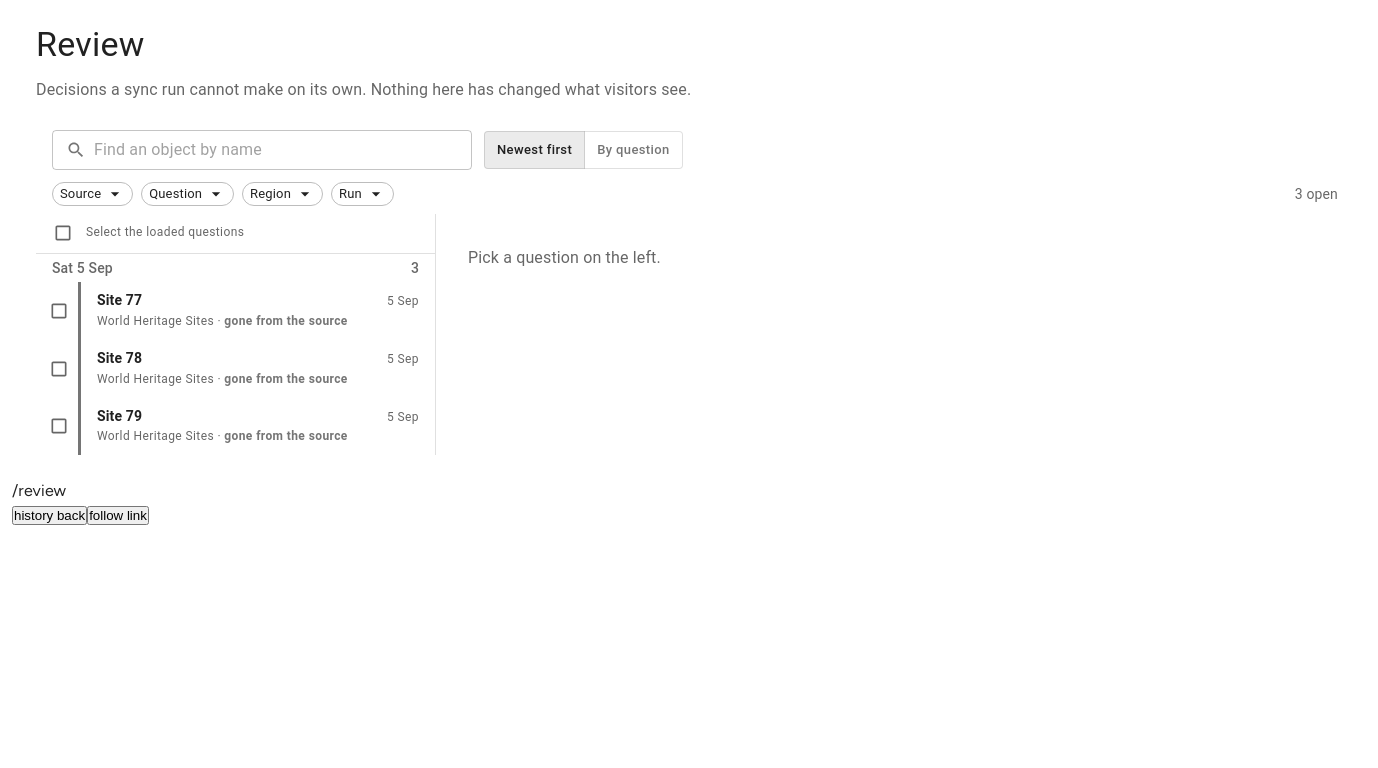
Scenario: ReviewPage › moves to the neighbour after an order change too, not back to the top
What coordinates should you click on to do the following:
click the button "Site 79 5 Sep World Heritage Sites · gone from the source"
I would click on:
 (120, 416)
Its box is [78, 398, 435, 455].
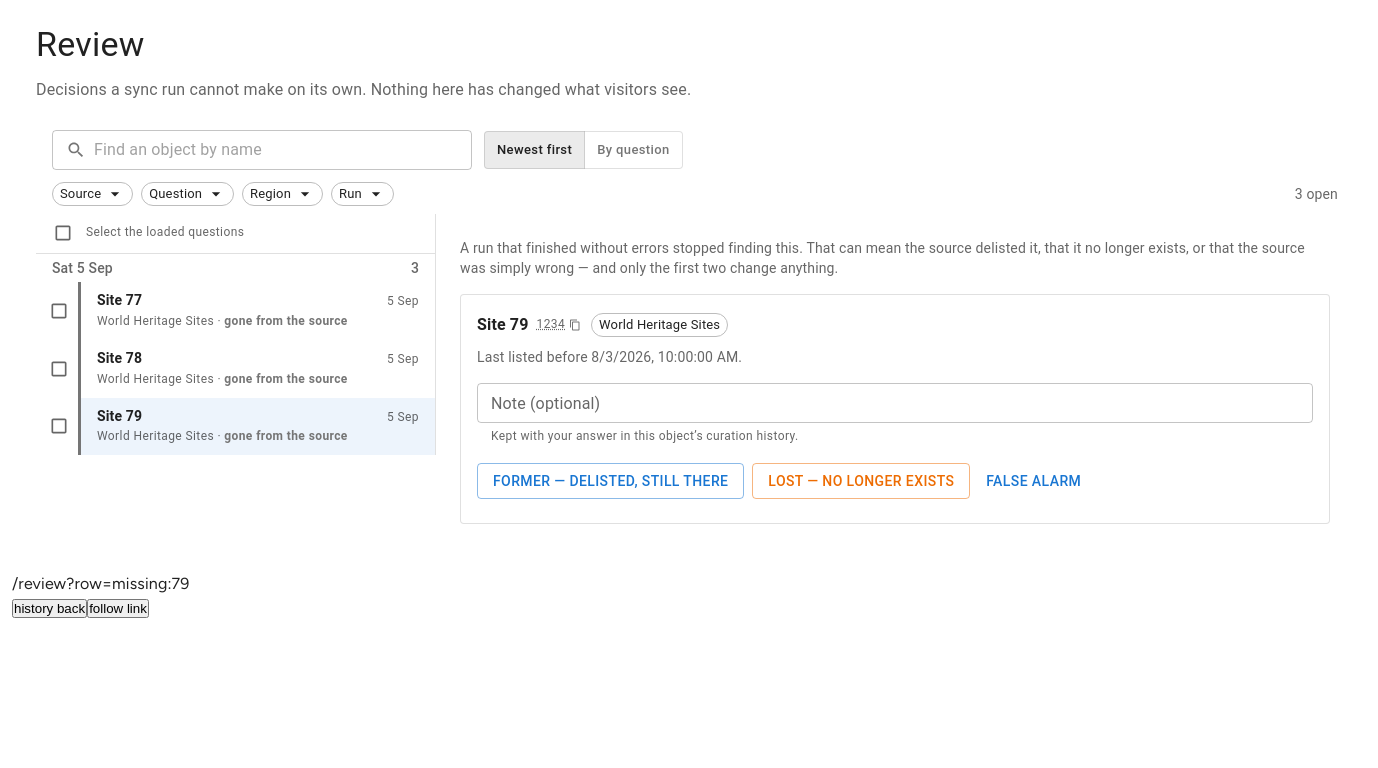
Expected: the text with test id "address" reads "/review?row=missing:79", [12, 574, 190, 593]
What coordinates should you click on to do the following:
click the button "By question"
I would click on:
 (633, 150)
Its box is [584, 130, 683, 169].
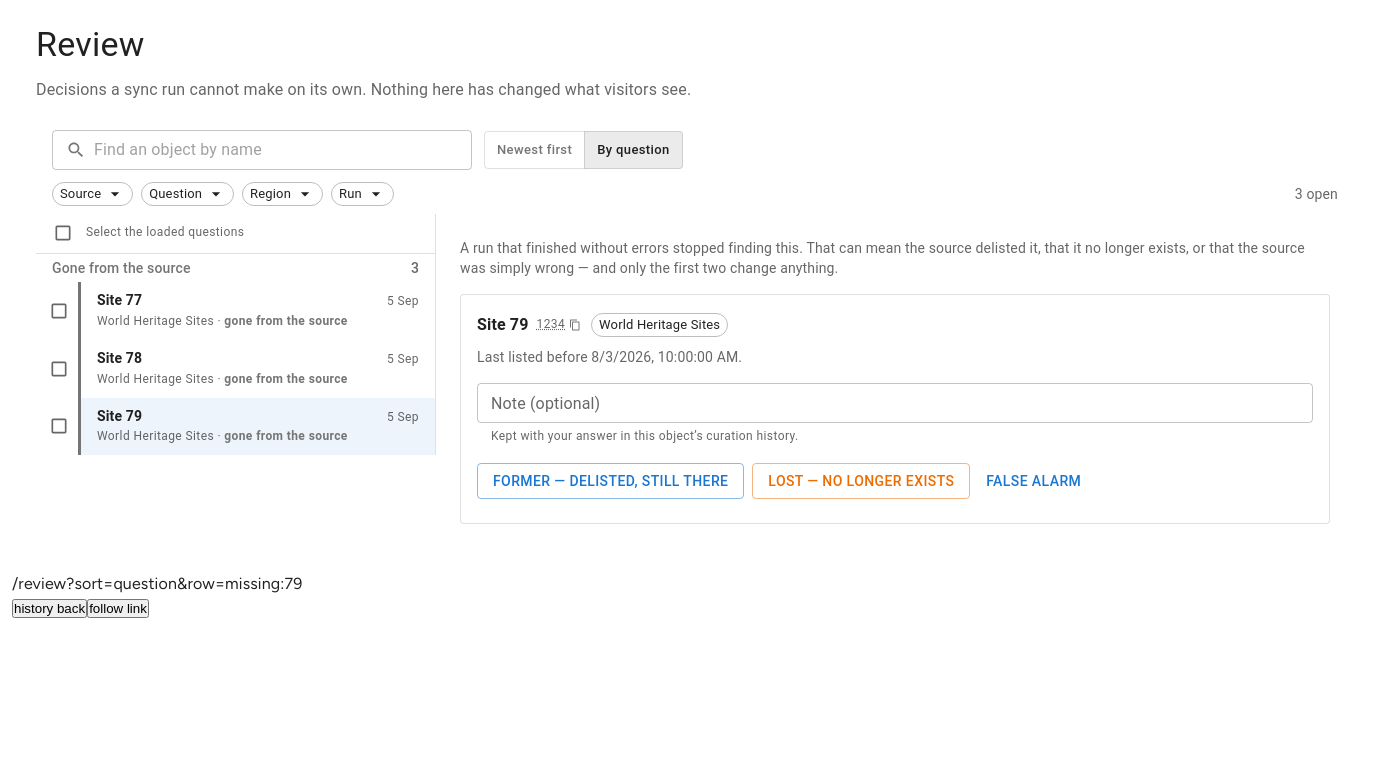
Expected: the text with test id "address" reads "/review?sort=question&row=missing:79", [12, 574, 302, 593]
What coordinates should you click on to do the following:
click the button "Former — delisted, still there"
I would click on:
 (611, 481)
Its box is [477, 463, 744, 499].
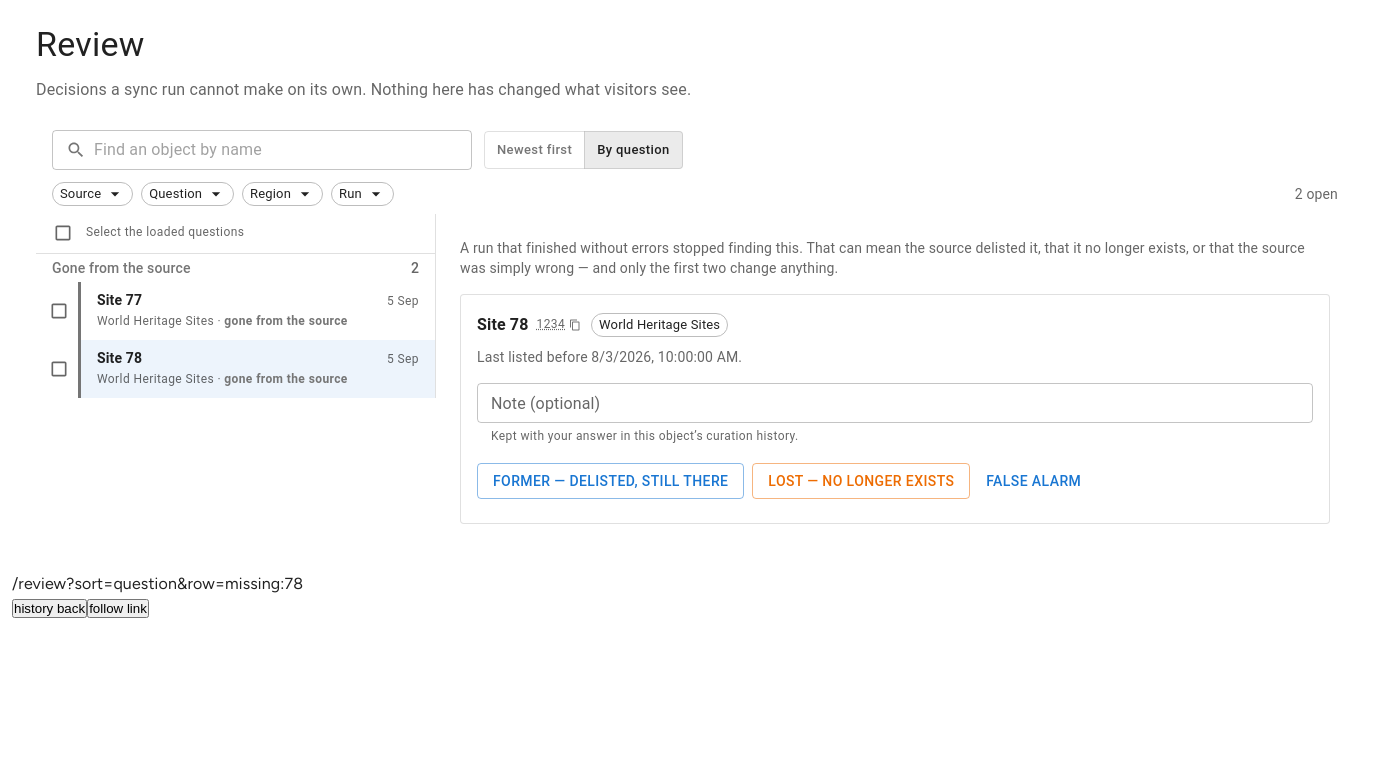
Expected: the heading "Site 78" is shown, [477, 311, 528, 339]
Expected: the text with test id "address" reads "/review?sort=question&row=missing:78", [12, 574, 303, 593]
